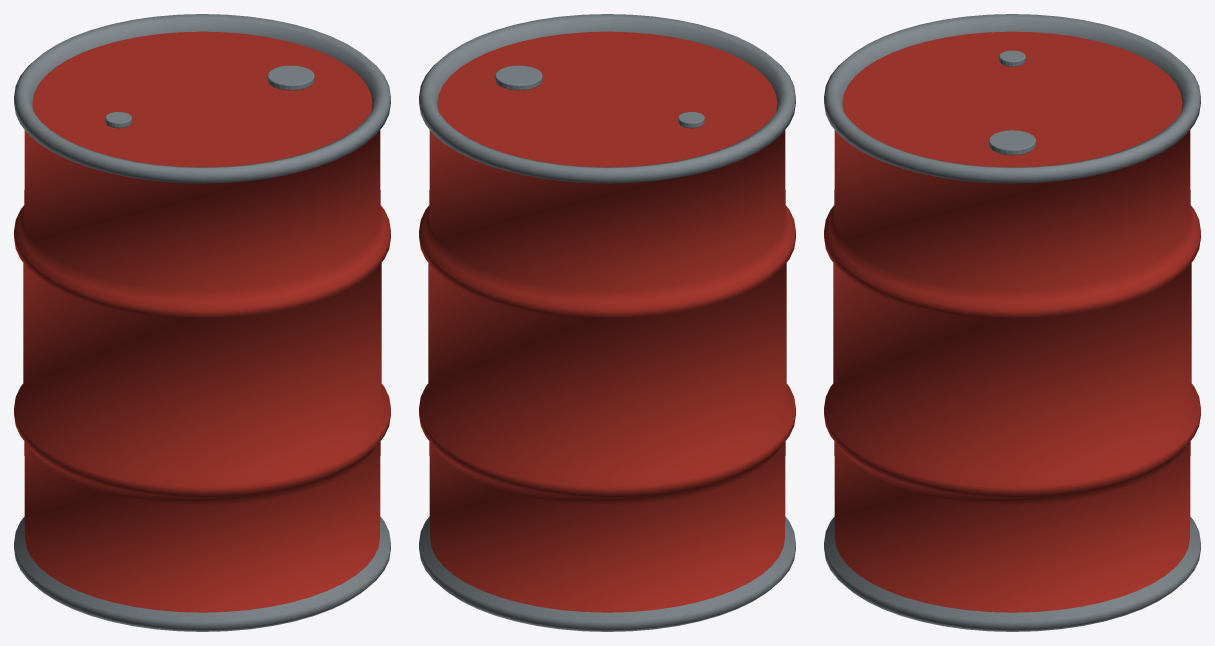
Rendered from barrel.glb.
The picture shows the model from 3 angles, left to right: view 1: azimuth 30°, elevation 25°; view 2: azimuth 150°, elevation 25°; view 3: azimuth 270°, elevation 25°; orthographic projection.
Parts seen in each view (by area): view 1: Demi_Steel_Barrel; view 2: Demi_Steel_Barrel; view 3: Demi_Steel_Barrel.
Boxes of the visible parts, x1,y1,x2,y2 form: Demi_Steel_Barrel: [14, 14, 390, 631]; Demi_Steel_Barrel: [419, 14, 795, 631]; Demi_Steel_Barrel: [824, 14, 1200, 631].
Bounding box in the file's own units: 0.7 × 0.95 × 0.7.
